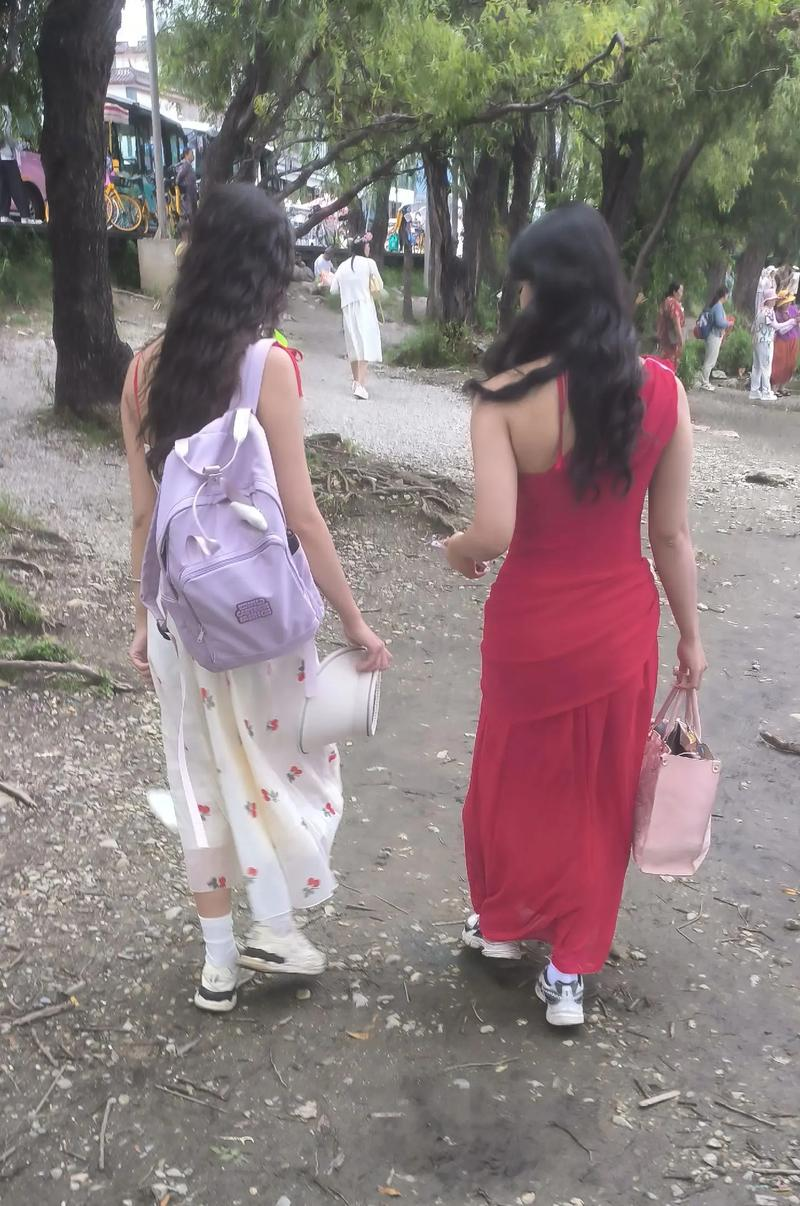up: (129, 161, 391, 1046)
